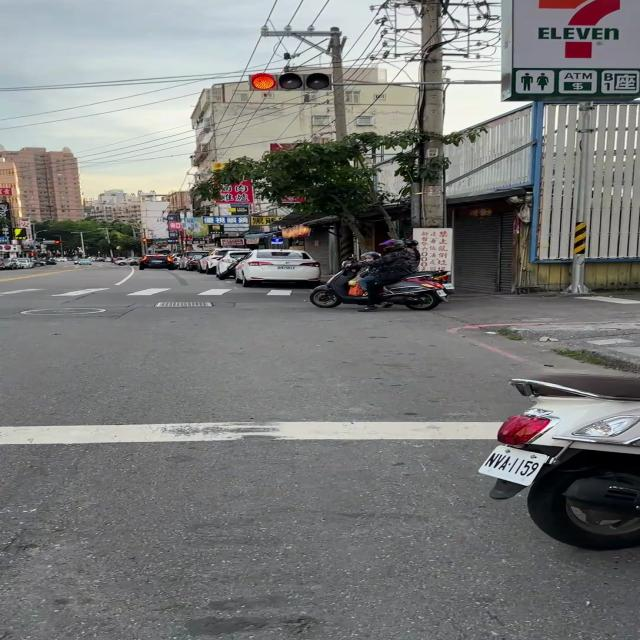car: (234, 250, 320, 288), (139, 255, 176, 270)
crosswalk: (0, 287, 295, 297)
motocycle: (309, 260, 366, 308), (379, 272, 446, 310)
